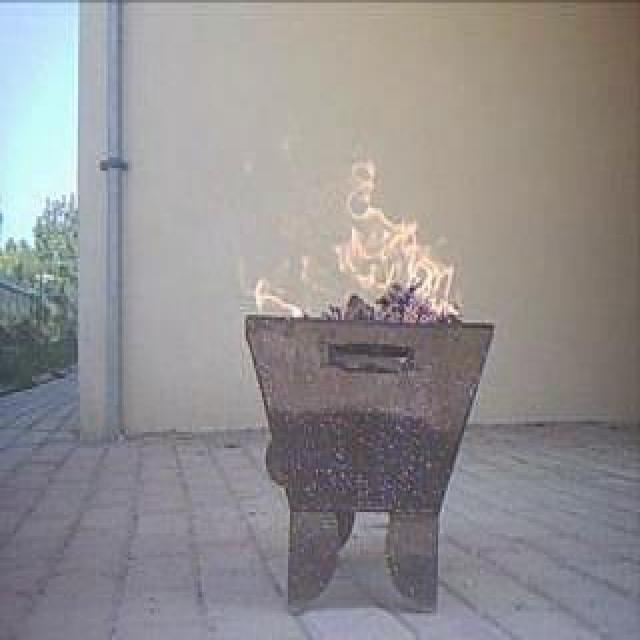fire: (232, 141, 468, 317)
